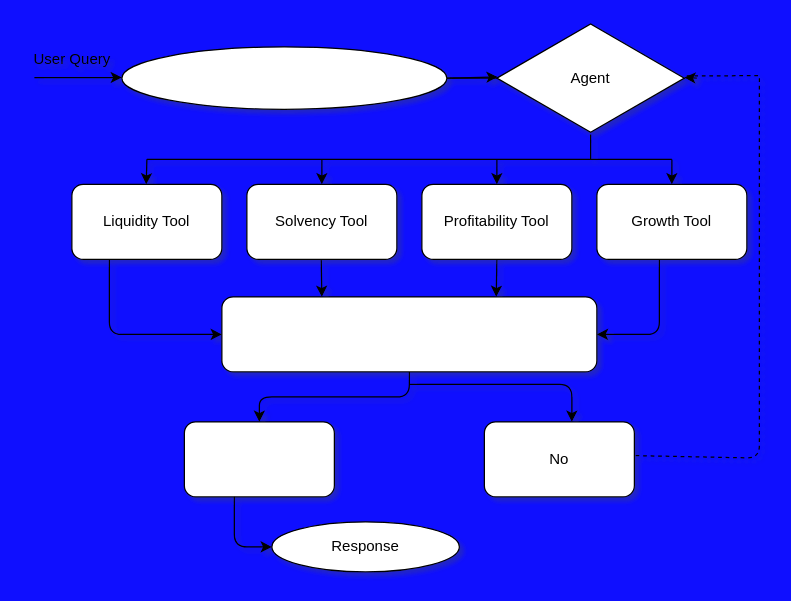
Some shapes in this 791 by 601 pixel diagram are drawn without their labels. The centre of each missing label's shape, as x and y in pixels:
Can I answer this on my own?: point (409, 334)
User Interface: point (284, 77)
Yes: point (258, 459)
